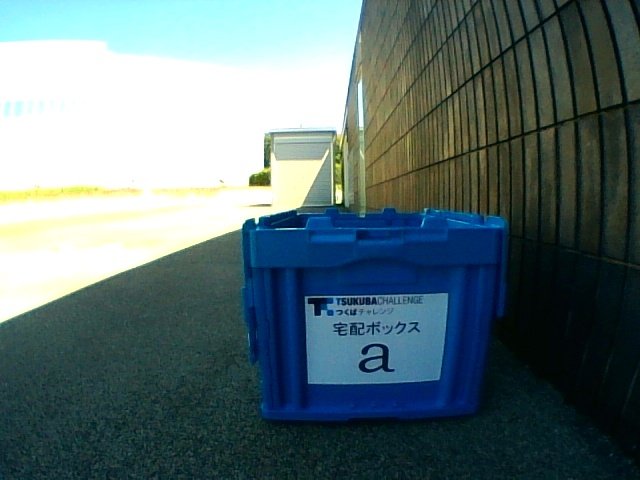blue_box: (242, 207, 509, 422)
tag_a: (306, 296, 440, 380)
